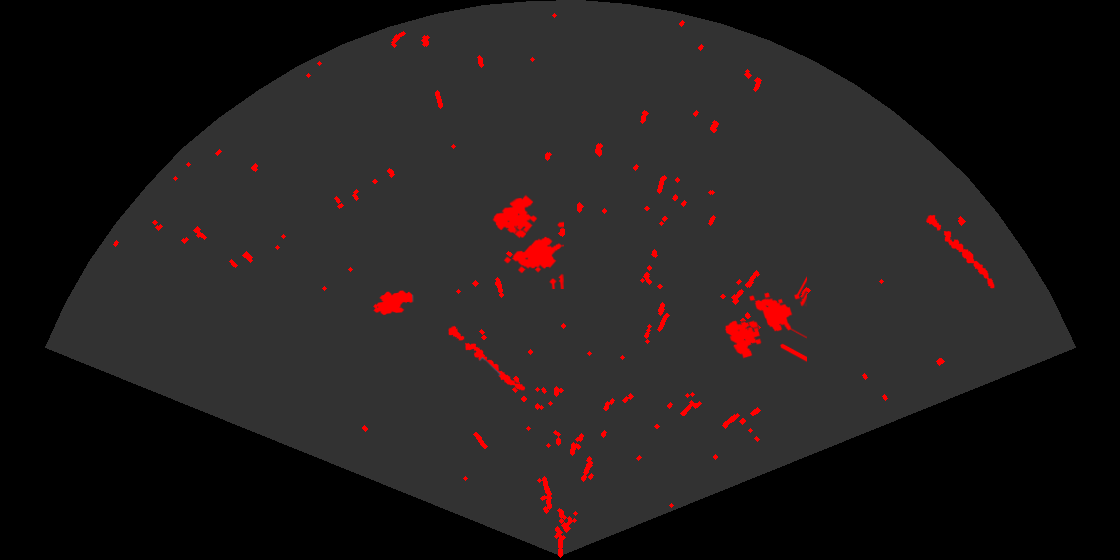AUV: (372, 289, 414, 317)
cage: (723, 275, 807, 364), (491, 193, 564, 289)
chain: (924, 213, 996, 290), (447, 324, 527, 392)
